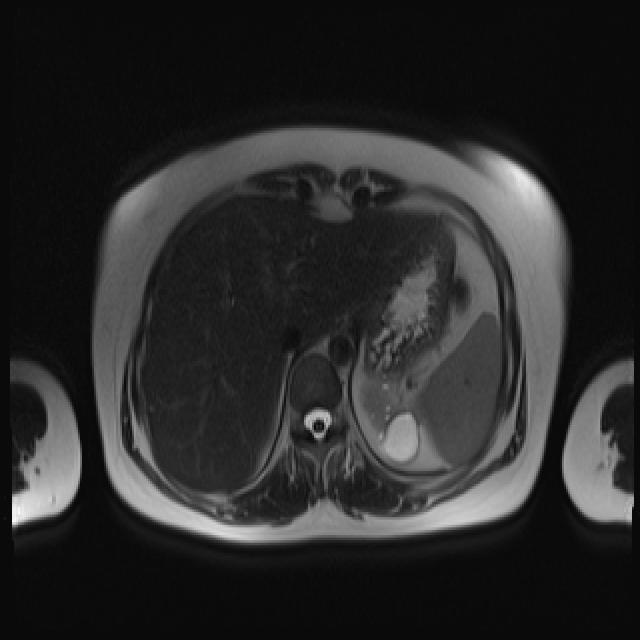sol: (359, 373, 419, 465)
